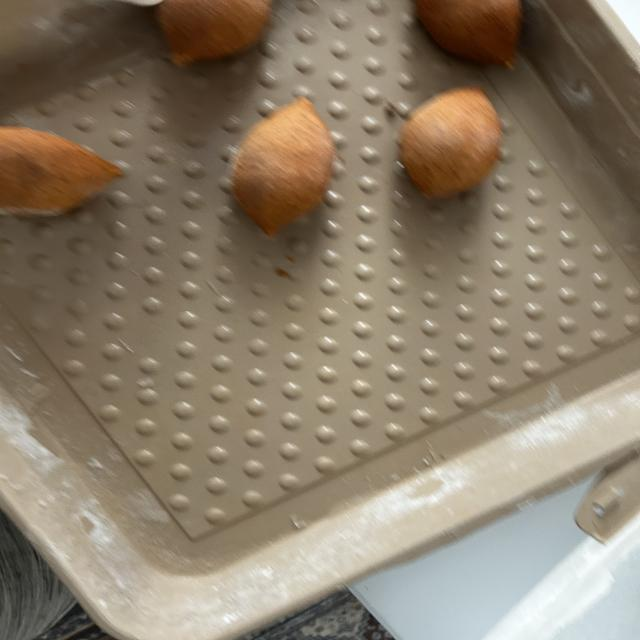kobi: (228, 100, 336, 228), (401, 85, 509, 195), (0, 134, 134, 218), (147, 5, 273, 65), (420, 0, 519, 71)
